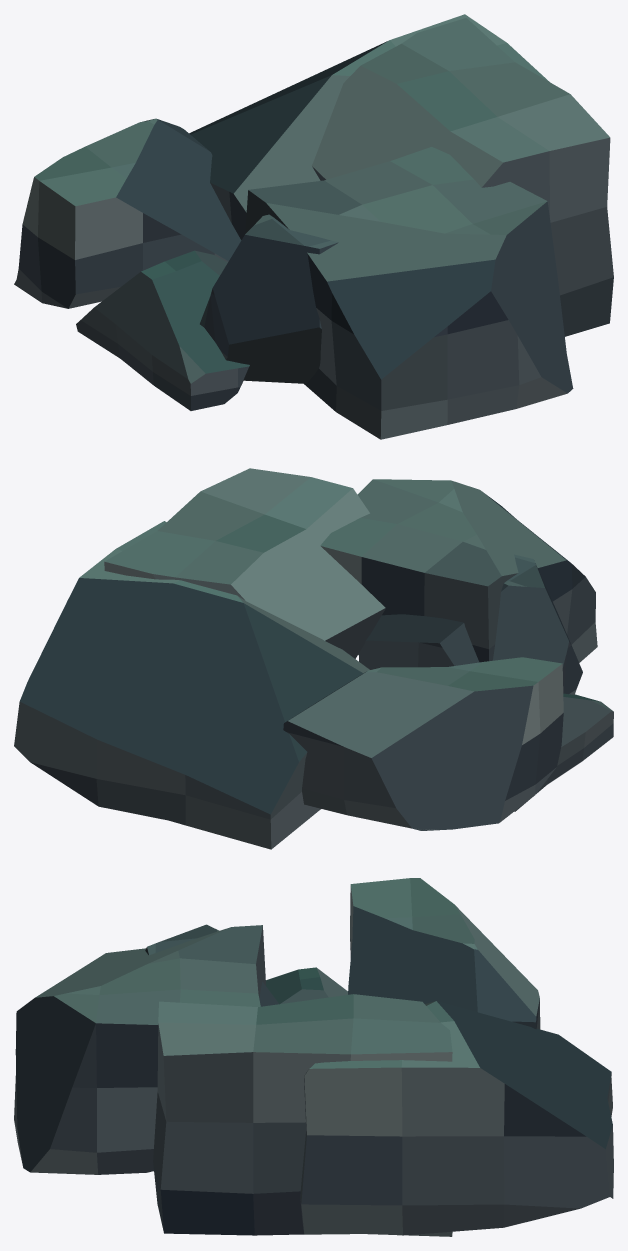
The picture shows the model from 3 angles, top to bottom: view 1: azimuth 30°, elevation 25°; view 2: azimuth 150°, elevation 25°; view 3: azimuth 270°, elevation 25°; orthographic projection. The views are drawn at different scales.
Visible parts, largest first — view 1: sea_boulder_field; view 2: sea_boulder_field; view 3: sea_boulder_field.
Boxes of the visible parts, bbox=[...] form: sea_boulder_field: bbox=[14, 14, 613, 439]; sea_boulder_field: bbox=[14, 468, 613, 849]; sea_boulder_field: bbox=[14, 878, 613, 1236].
Size of the model in its own units: 2.72 by 1.08 by 3.16.
